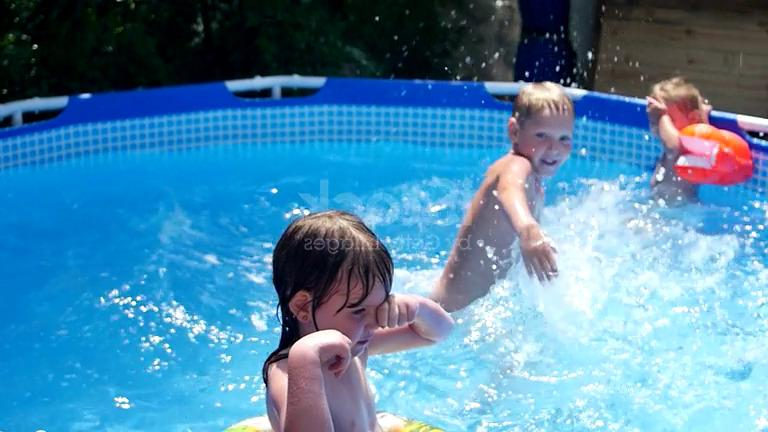Swimming: (413, 68, 634, 322)
